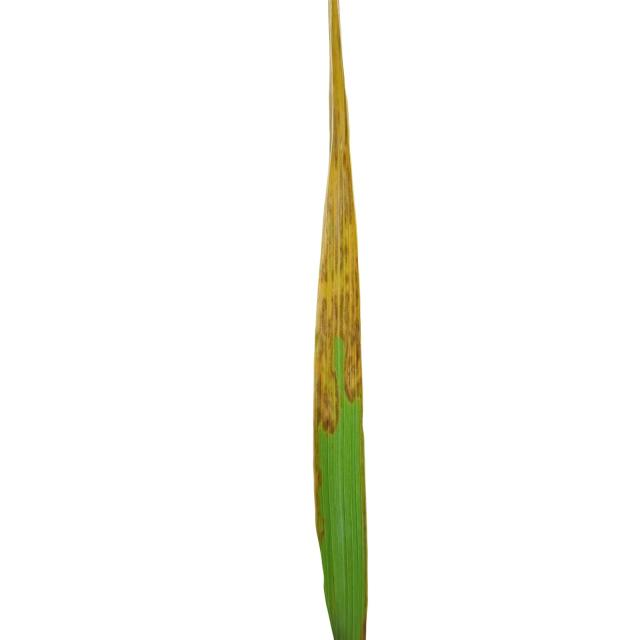Leaf scald: (227, 0, 452, 640)
